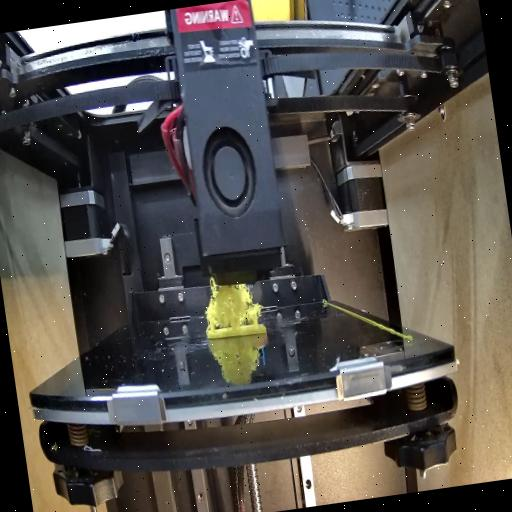spaghetti: (202, 272, 262, 329)
